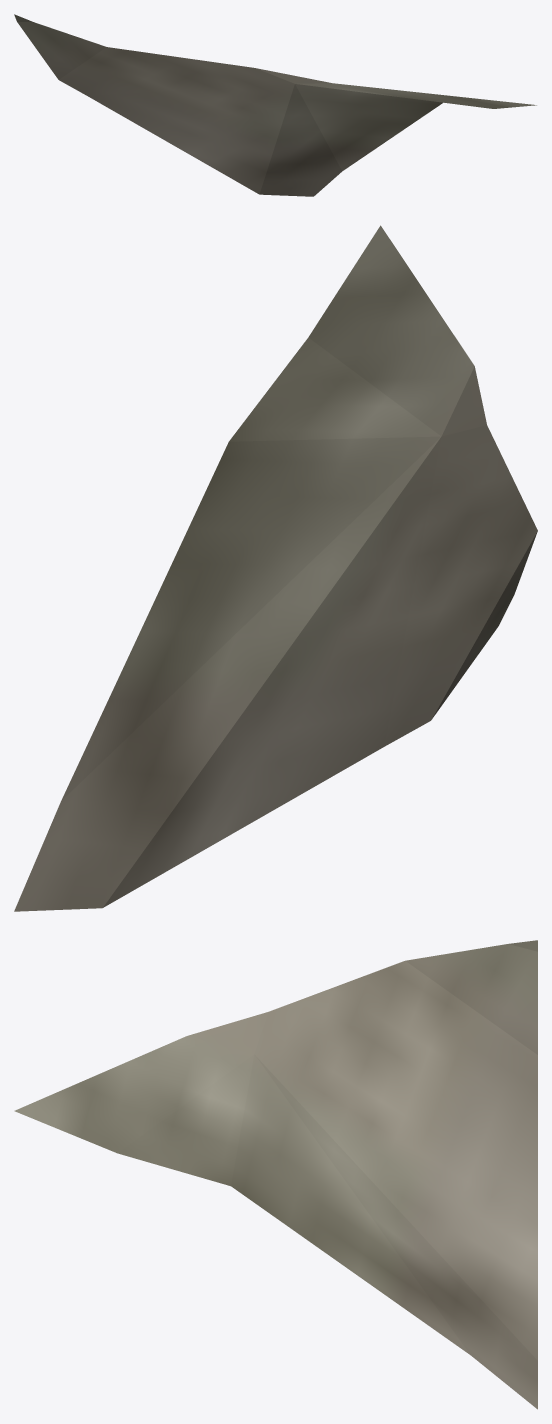
The picture shows the model from 3 angles, top to bottom: view 1: azimuth 30°, elevation 25°; view 2: azimuth 150°, elevation 25°; view 3: azimuth 270°, elevation 25°; orthographic projection. The views are drawn at different scales.
Size of the model in its own units: 0.1576 by 0.1285 by 0.2043.
1 material, 1 textured.
